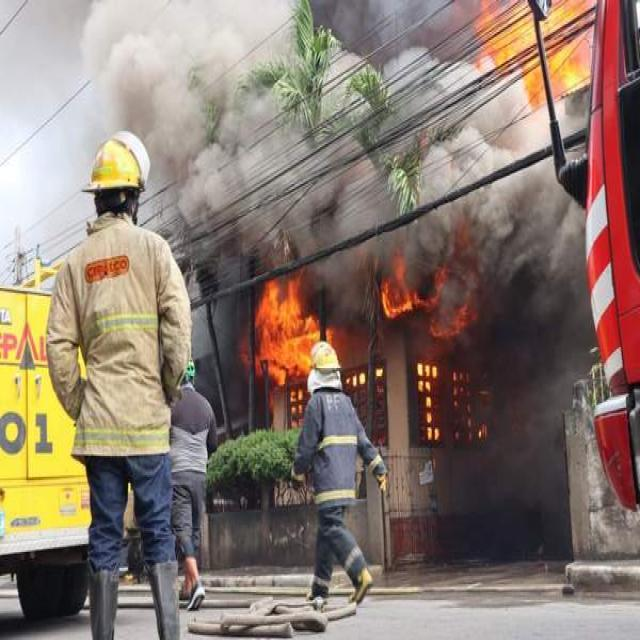Fire: (490, 0, 606, 111), (374, 257, 496, 342), (254, 284, 316, 376)
Smoke: (142, 16, 502, 256)
